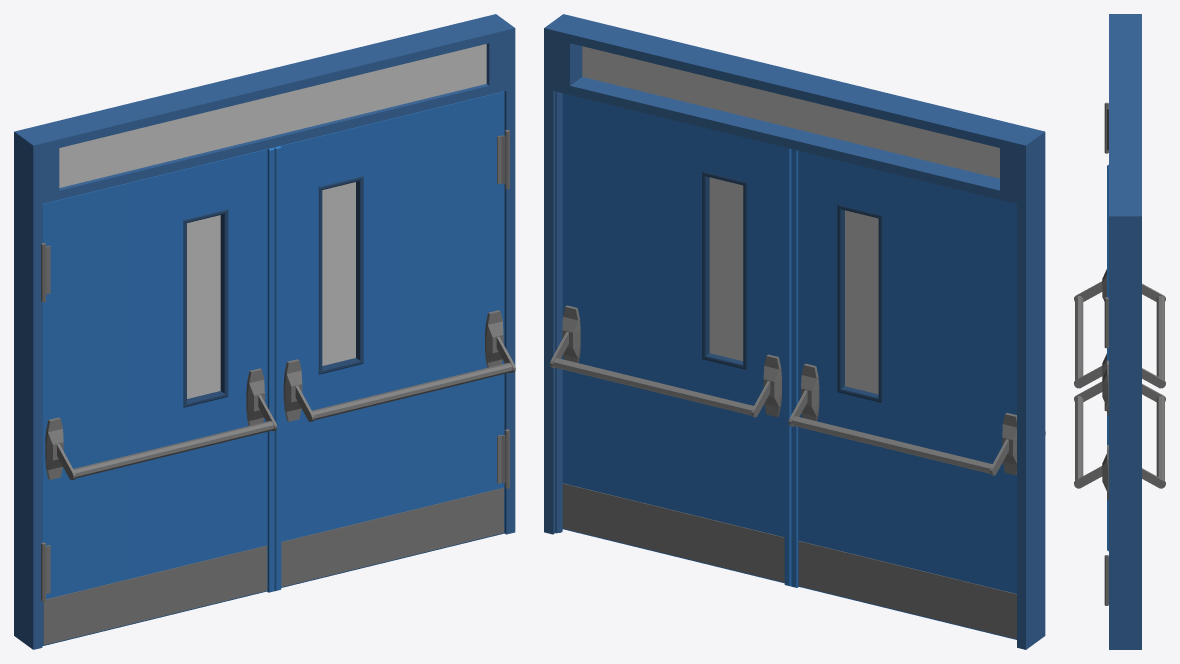
File: M_DubleDoor02_2.fbx
3 renders of one model, left to right at view 1: azimuth 30°, elevation 25°; view 2: azimuth 150°, elevation 25°; view 3: azimuth 270°, elevation 25°, orthographic. The views are drawn at different scales.
Parts seen in each view (by area): view 1: M_DubleDoor02_2; view 2: M_DubleDoor02_2; view 3: M_DubleDoor02_2.
Part boxes in pixels (x1,y1,x2,y2): M_DubleDoor02_2: [14, 14, 515, 649]; M_DubleDoor02_2: [544, 14, 1045, 649]; M_DubleDoor02_2: [1074, 14, 1165, 649].
Size of what is drawn, in the model's own units: 250 by 47.99 by 250.
